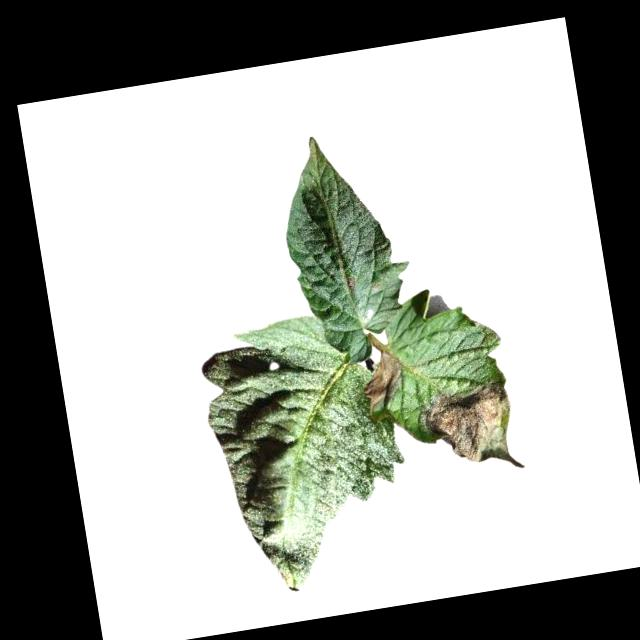Late_blight: (416, 378, 525, 484), (359, 347, 414, 415), (341, 275, 361, 294)
healthy: (193, 302, 425, 603)
